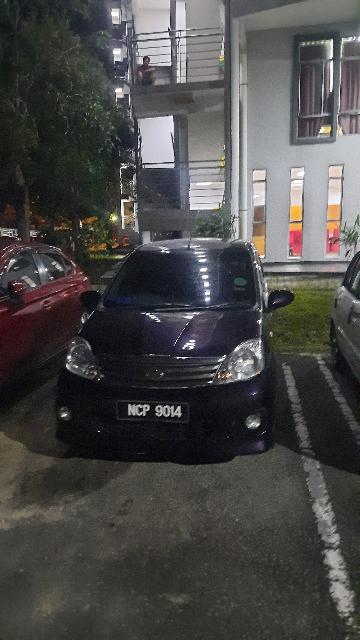License_Plate: (116, 400, 193, 423)
car: (58, 237, 295, 459)
